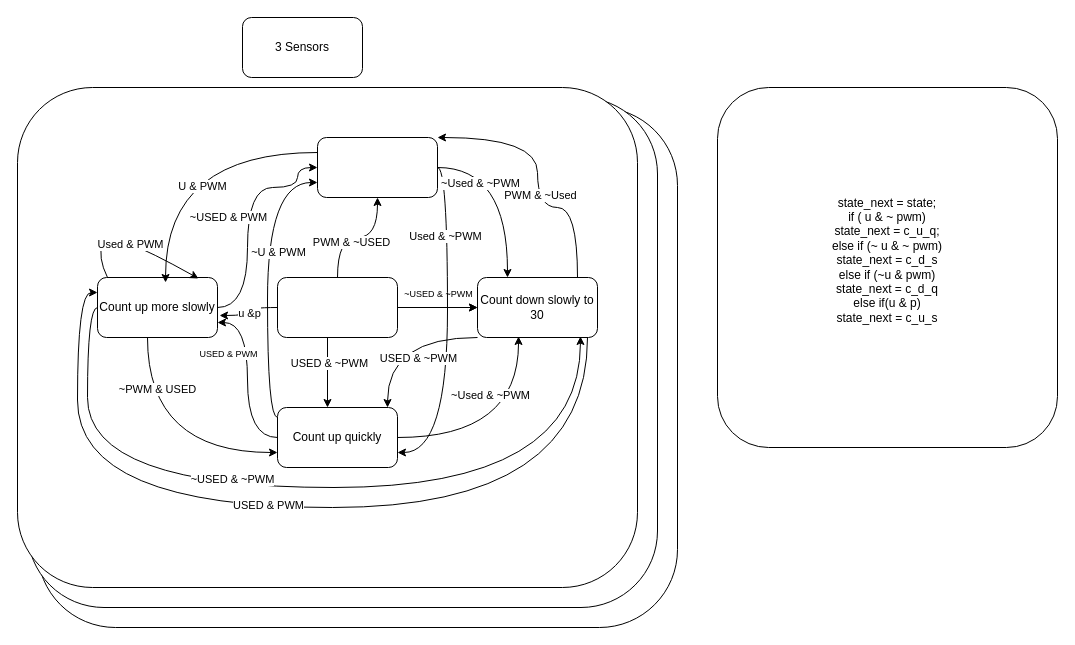
Image size: 1075x645. Some labels were removed from this diagram. Each missing label, with the box of its shape:
Count down to 30 more quickly: (316, 136, 438, 198)
Start at Random: (276, 276, 398, 338)
